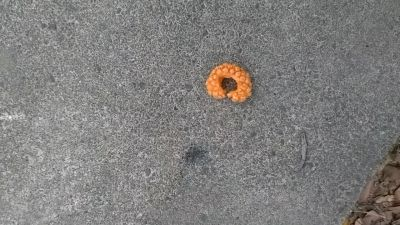eggs: (207, 62, 255, 103)
